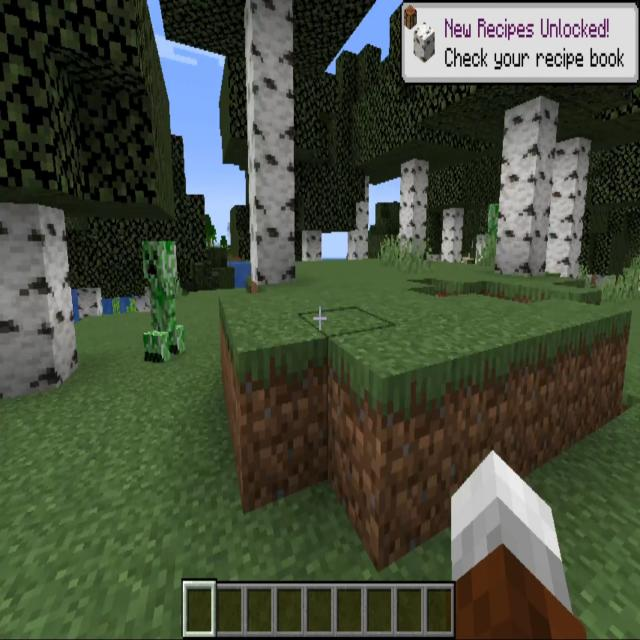Creeper: (140, 236, 187, 363), (486, 198, 506, 274)
